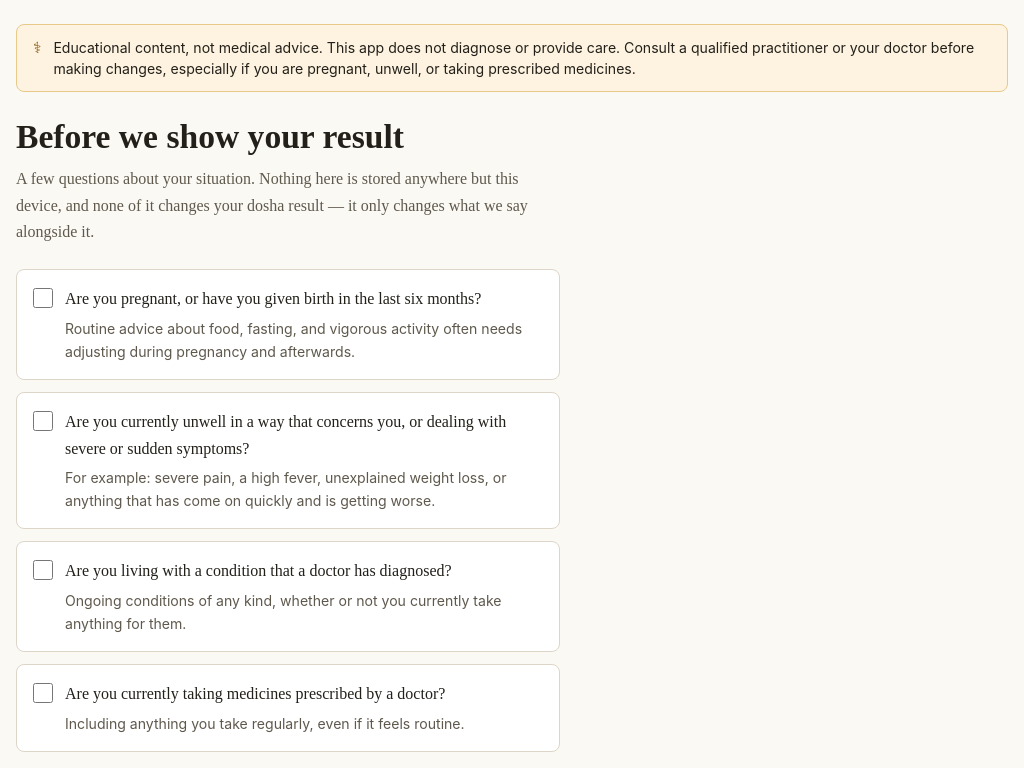
Test: every red flag surfaces professional-care guidance before results › diagnosed-condition
Click the 3rd checkbox.
click(43, 570)  # box [33,560,53,580]
(page scrolled)
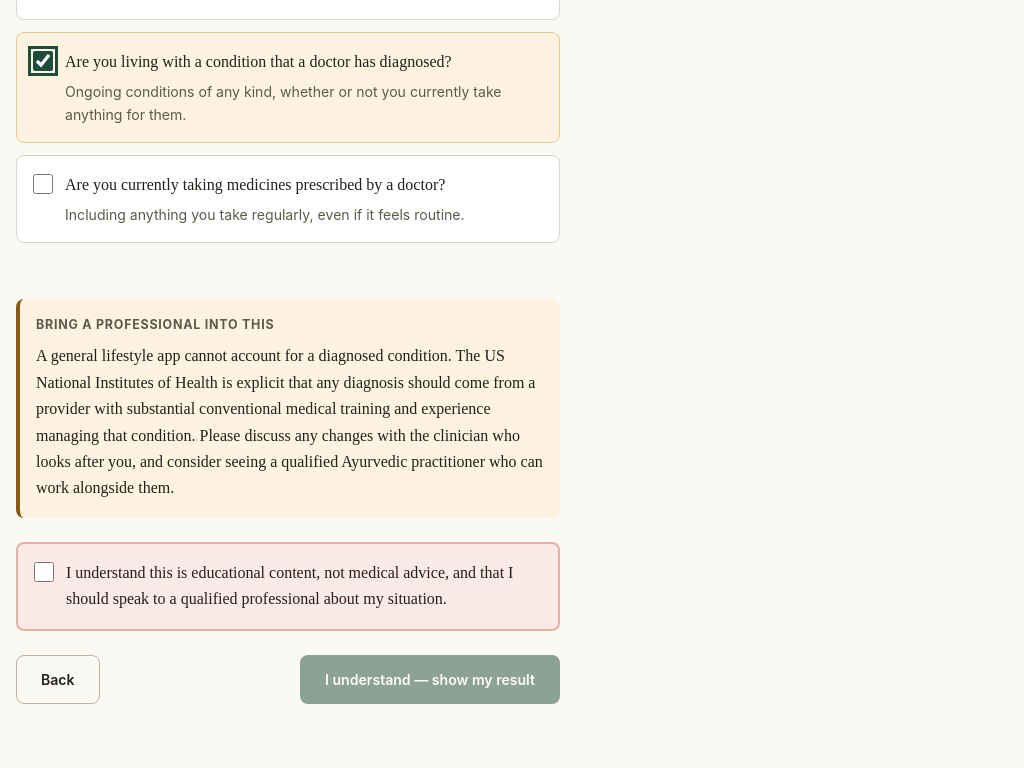
Result: the element with test id "red-flag-messages" is shown at [16,299,560,518]
Result: the element with test id "red-flag-messages" shows "Bring a professional into this" at [36,317,274,332]
